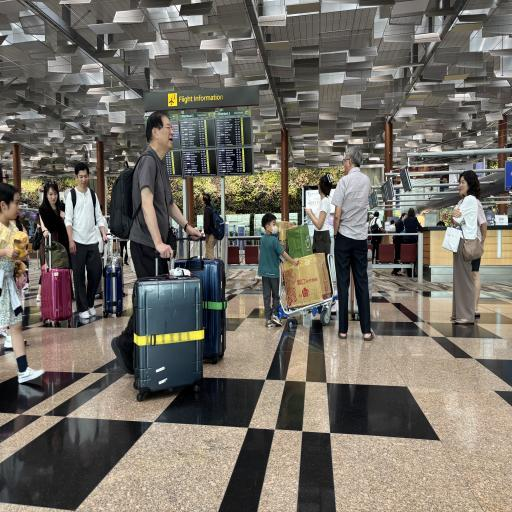person_with_luggage_right: (120, 100, 205, 390), (62, 155, 120, 320)
